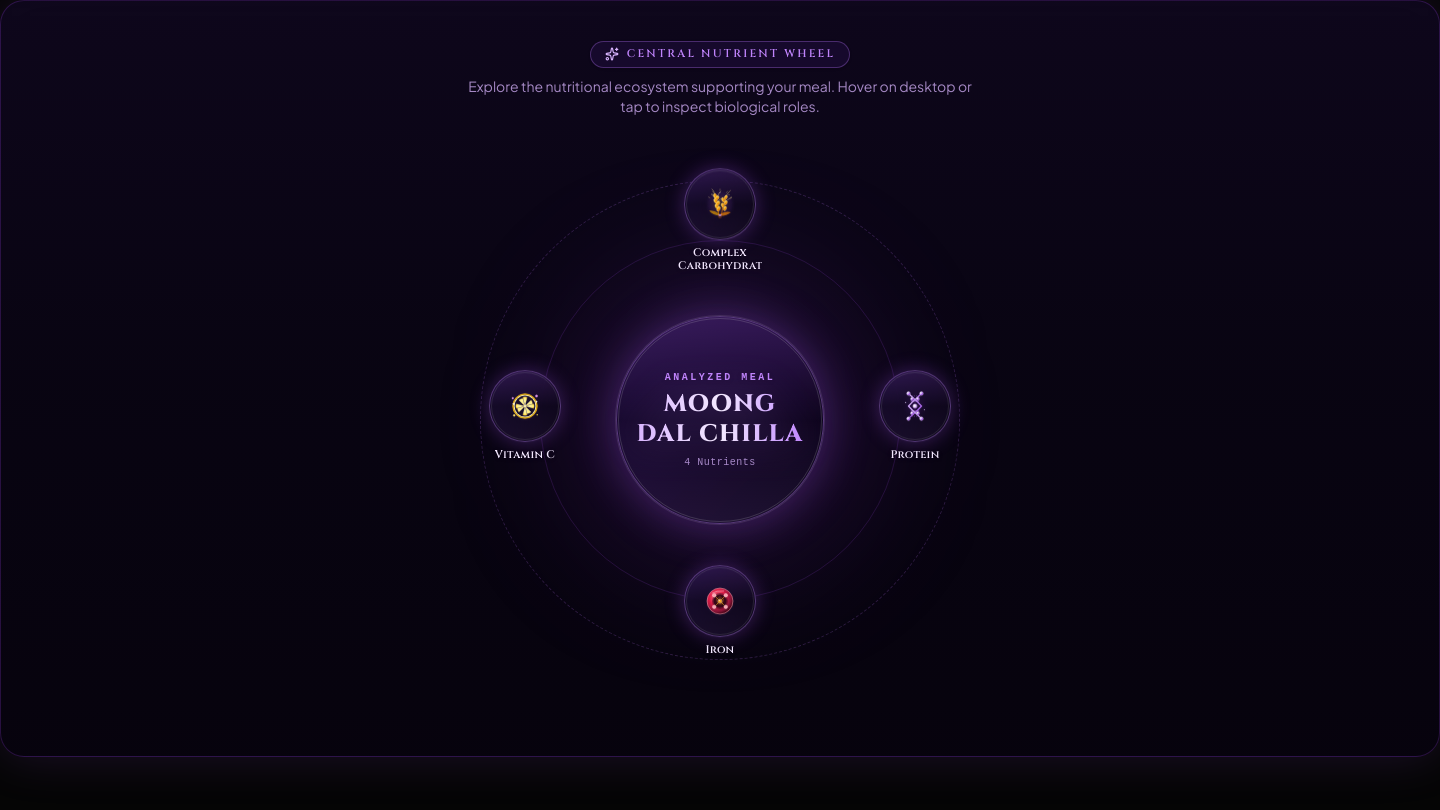
Test: CentralNutrientWheel Component › activates the nutrient when clicking the nutrient text label directly
// The text label "Protein" is inside the interactive button
Click the button "Protein" at {"x": 915, "y": 416}, box [879,370,951,461]
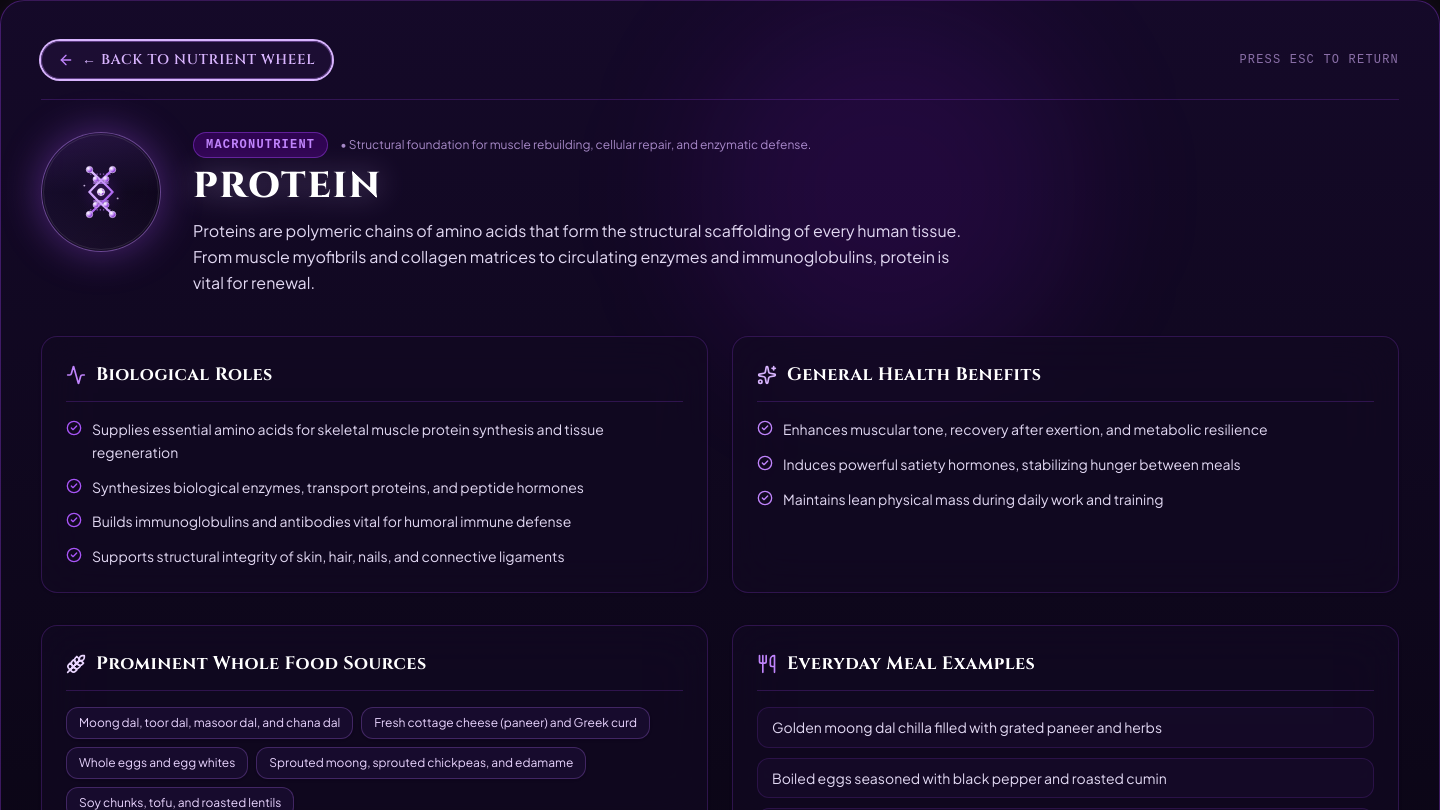
Check: the heading "Protein" is shown, box [193,162,382,210]
